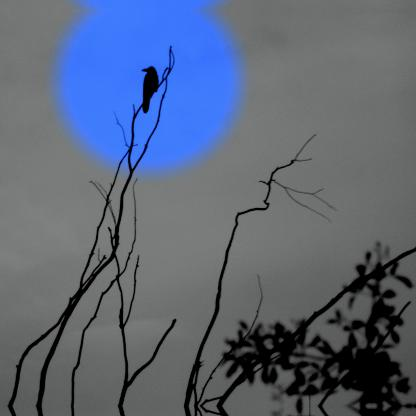Bird: (142, 64, 158, 110)
